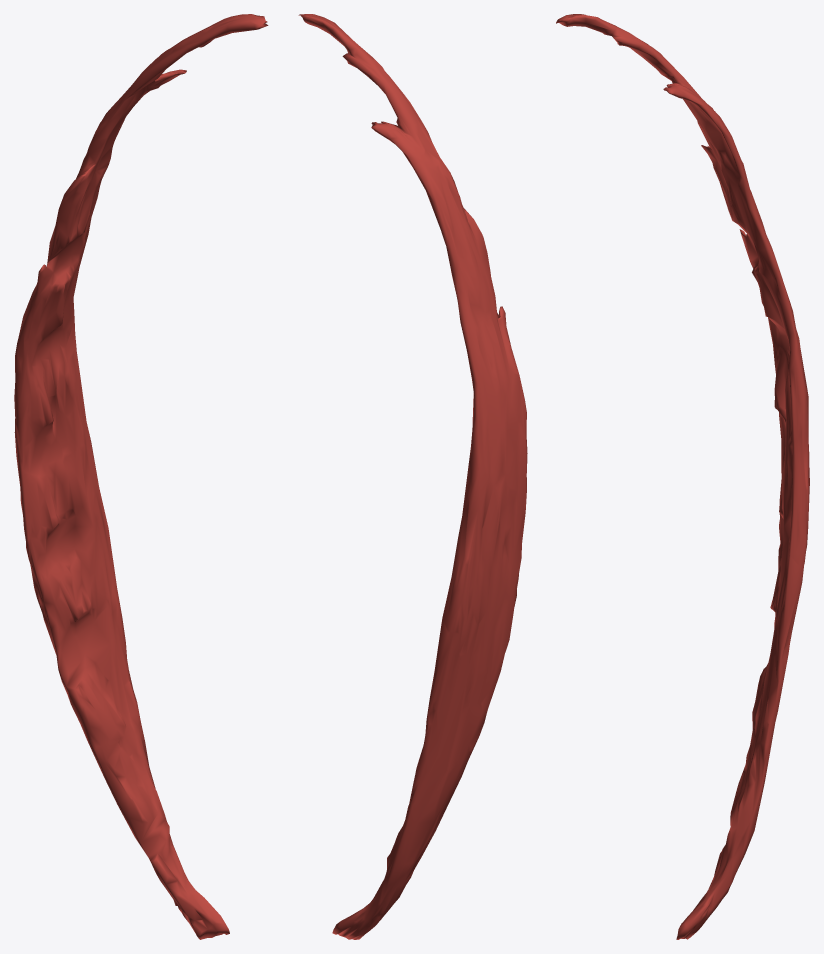
File: musculos-iliocostalis-thoracis-muscle-r.glb
3 views of the same model, side by side, from view 1: azimuth 30°, elevation 25°; view 2: azimuth 210°, elevation 25°; view 3: azimuth 270°, elevation 25° (orthographic). The views are drawn at different scales.
Visible parts, largest first — view 1: Iliocostalis thoracis muscle.r; view 2: Iliocostalis thoracis muscle.r; view 3: Iliocostalis thoracis muscle.r.
Part boxes in pixels (x1=…): Iliocostalis thoracis muscle.r: x1=14, y1=14, x2=268, y2=939; Iliocostalis thoracis muscle.r: x1=298, y1=14, x2=527, y2=939; Iliocostalis thoracis muscle.r: x1=556, y1=14, x2=809, y2=939.
Size of the model in its own units: 0.0546 by 0.3165 by 0.0795.
